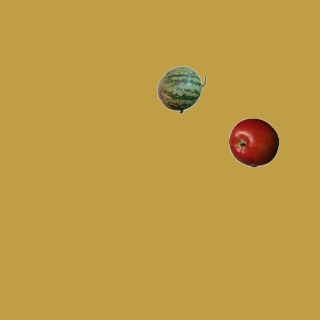Apple Braeburn: (228, 117, 278, 167)
Watermelon: (156, 64, 206, 114)
